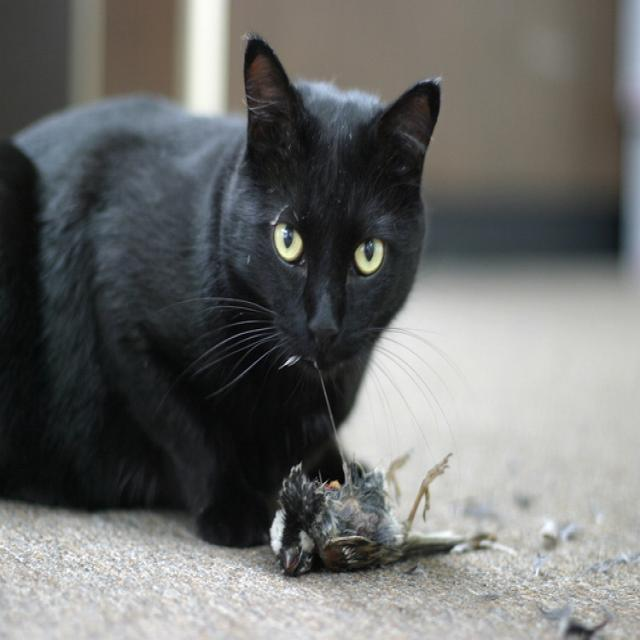Bombay: (223, 37, 439, 378)
